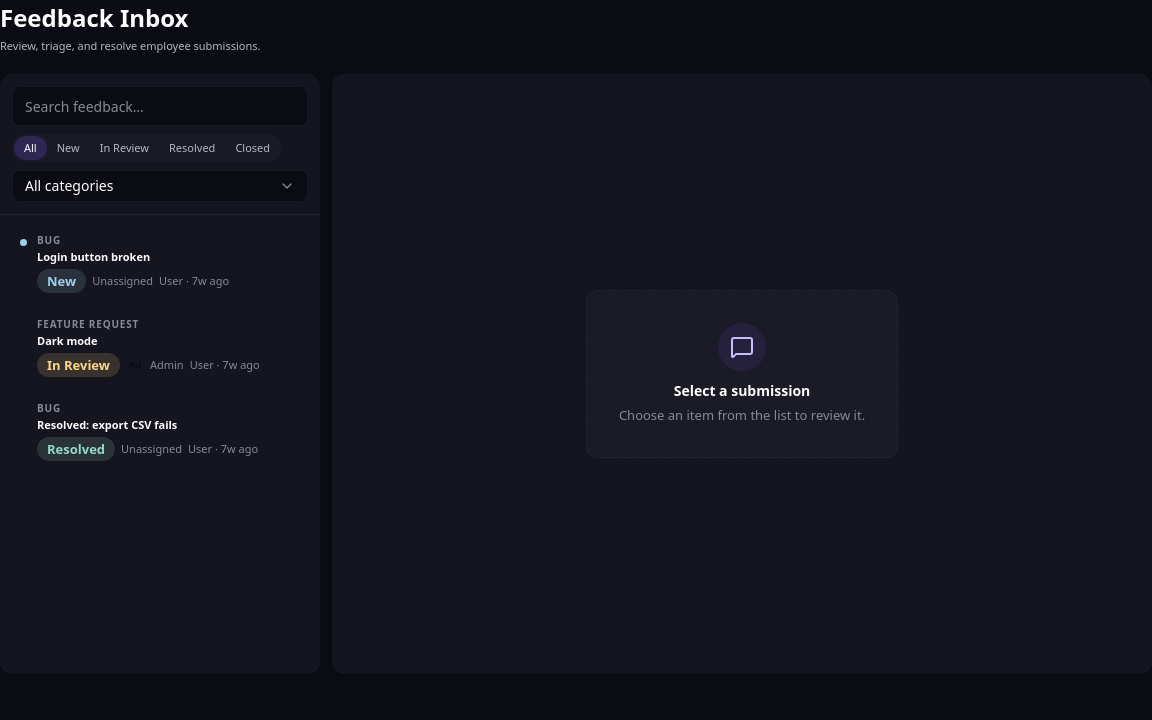
Test: FeedbackAdminPage › clicking a row shows it in the pane (title + description) and fetches notes + activity
The width and height of the screenshot is (1152, 720).
Click the text "Login button broken". click: click(94, 256)
box: [37, 249, 150, 264]
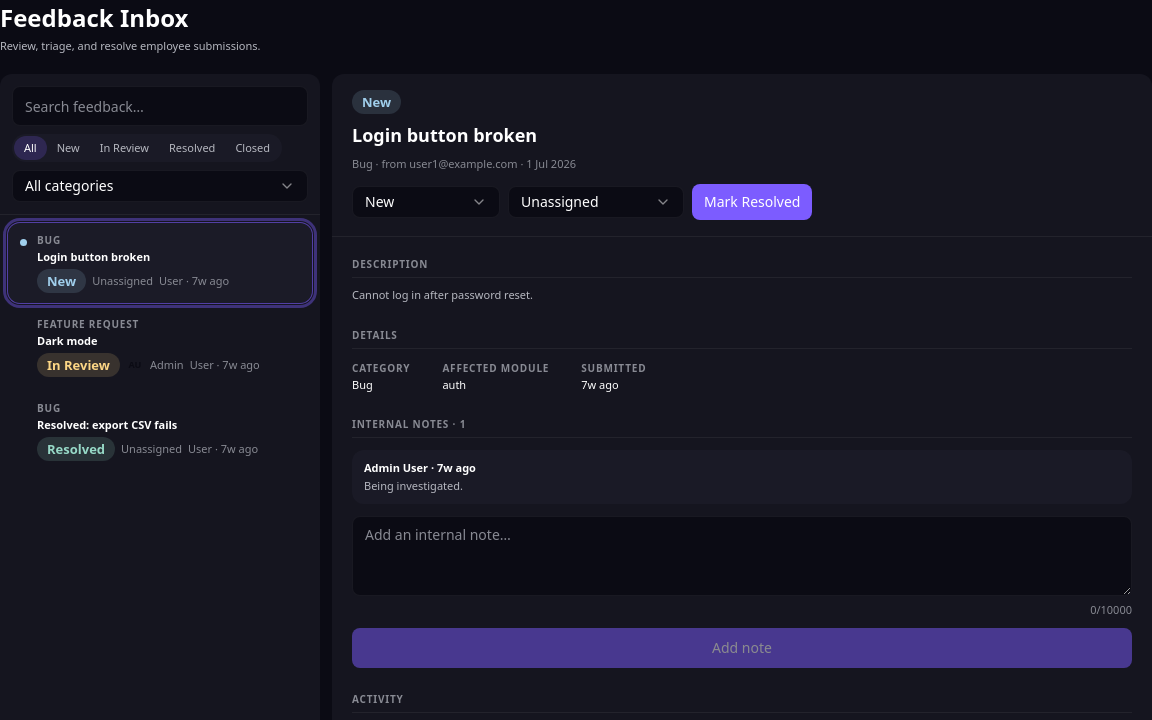
Expected: the heading "Login button broken" is shown, [352, 123, 537, 147]
Expected: the text "Cannot log in after password reset." is shown, [352, 287, 533, 302]
Expected: the text "Being investigated." is shown, [364, 478, 463, 493]
